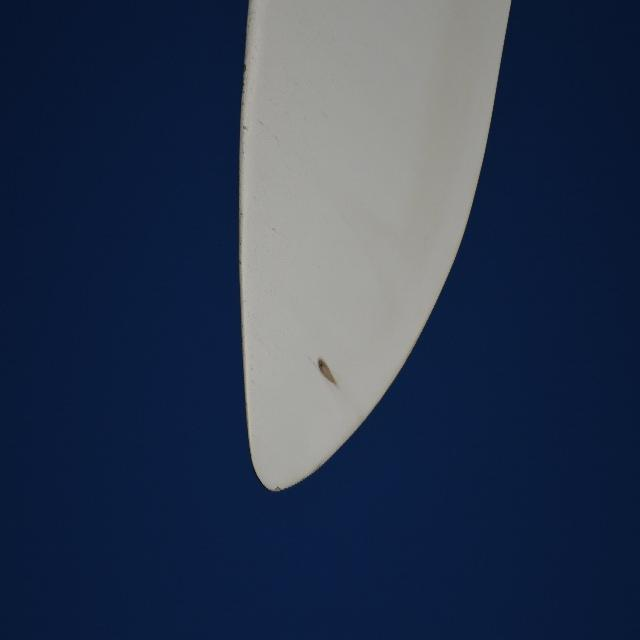Burn Mark: (316, 352, 338, 391)
